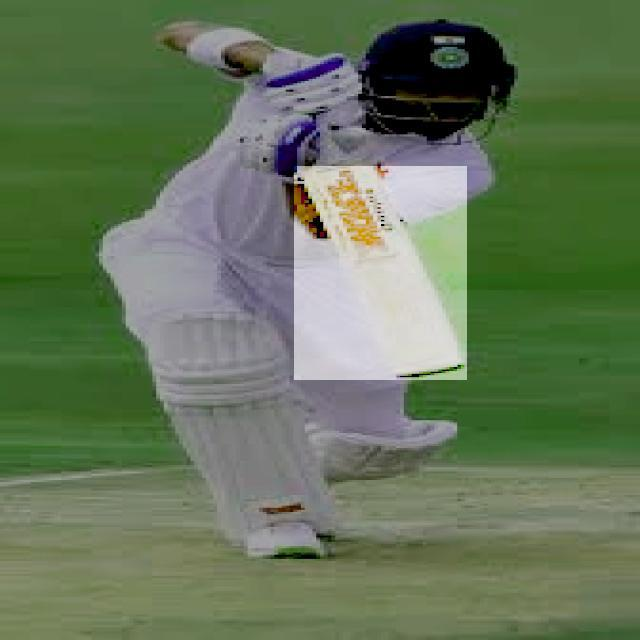bat: (295, 168, 468, 383)
toe: (398, 360, 466, 379)
